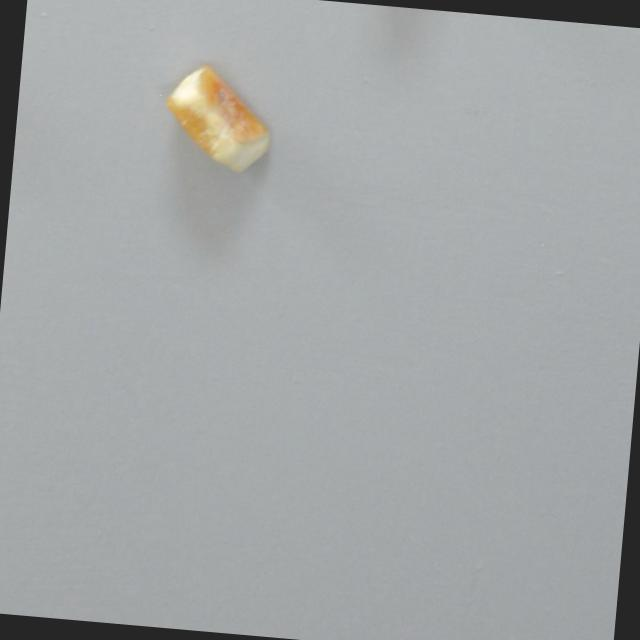dañado: (146, 54, 290, 176)
